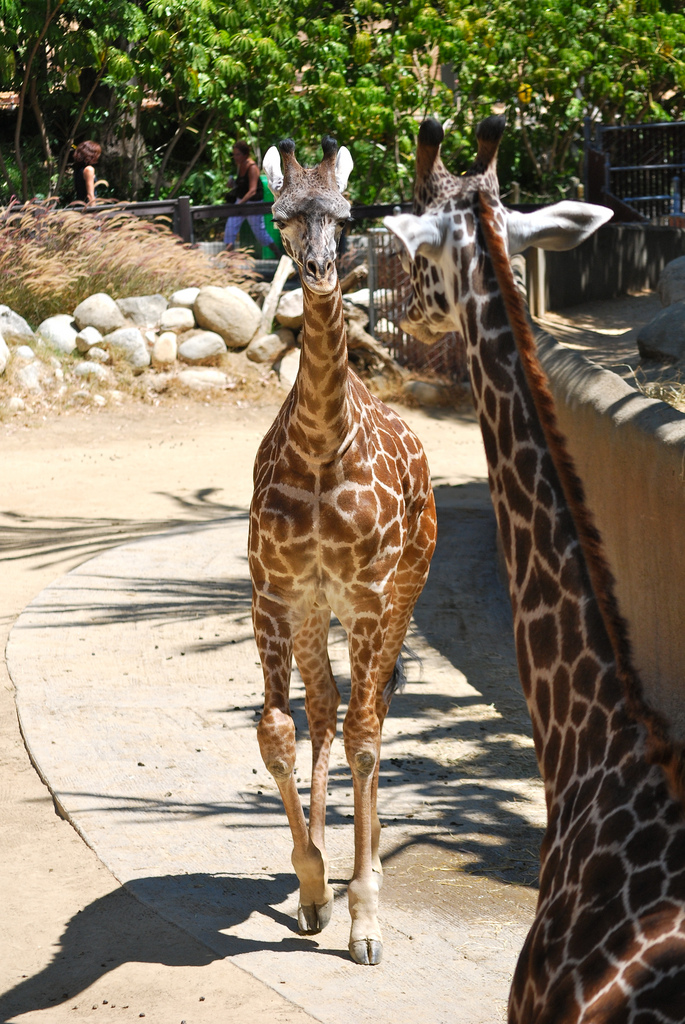giraffe: (398, 153, 685, 971), (218, 127, 465, 925)
